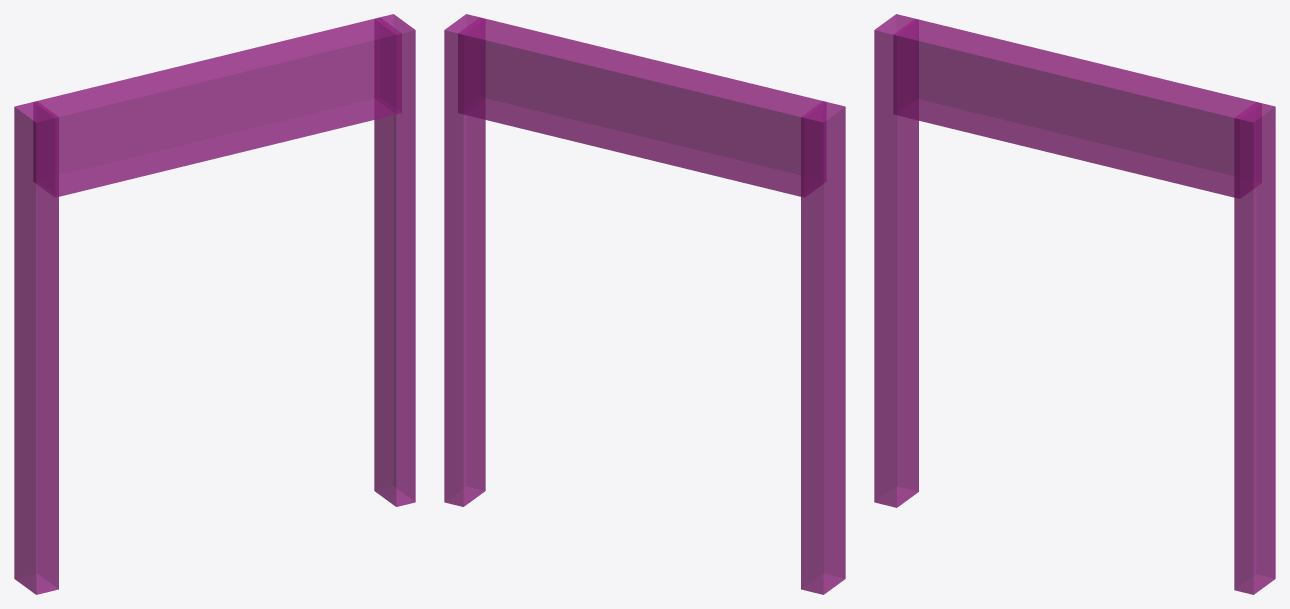
Rendered from SM_Bld_Wall_Door_Garage_02_Collision.fbx.
The picture shows the model from 3 angles, left to right: view 1: azimuth 30°, elevation 25°; view 2: azimuth 150°, elevation 25°; view 3: azimuth 330°, elevation 25°; orthographic projection.
Parts seen in each view (by area): view 1: SM_Bld_Wall_Door_Garage_02_Collision; view 2: SM_Bld_Wall_Door_Garage_02_Collision; view 3: SM_Bld_Wall_Door_Garage_02_Collision.
Boxes of the visible parts, x1,y1,x2,y2 form: SM_Bld_Wall_Door_Garage_02_Collision: (14, 14, 415, 594); SM_Bld_Wall_Door_Garage_02_Collision: (444, 14, 845, 594); SM_Bld_Wall_Door_Garage_02_Collision: (874, 14, 1275, 594).
Bounding box in the file's own units: 254 × 302 × 25.51.
